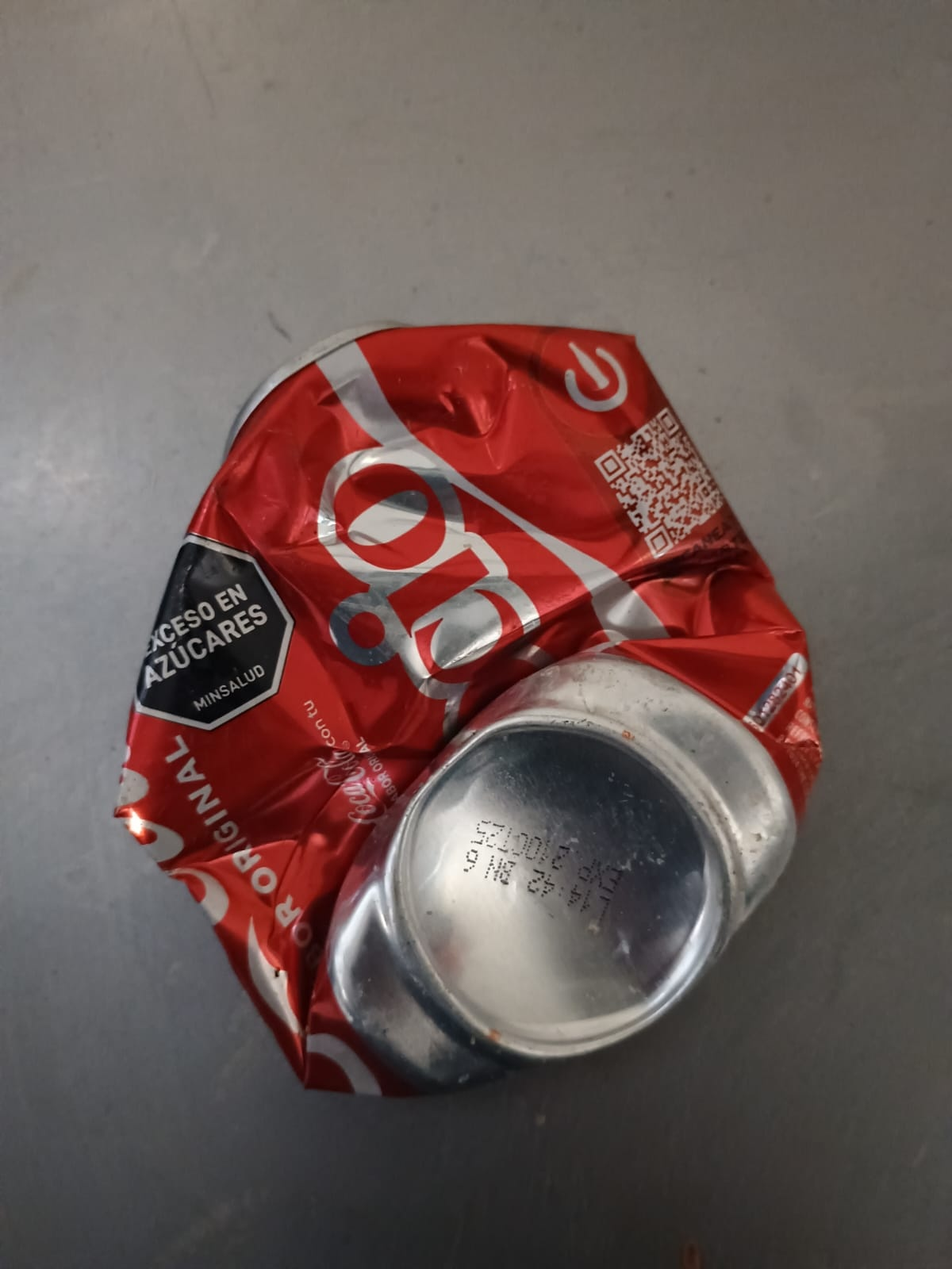Metal: (115, 322, 823, 1101)
